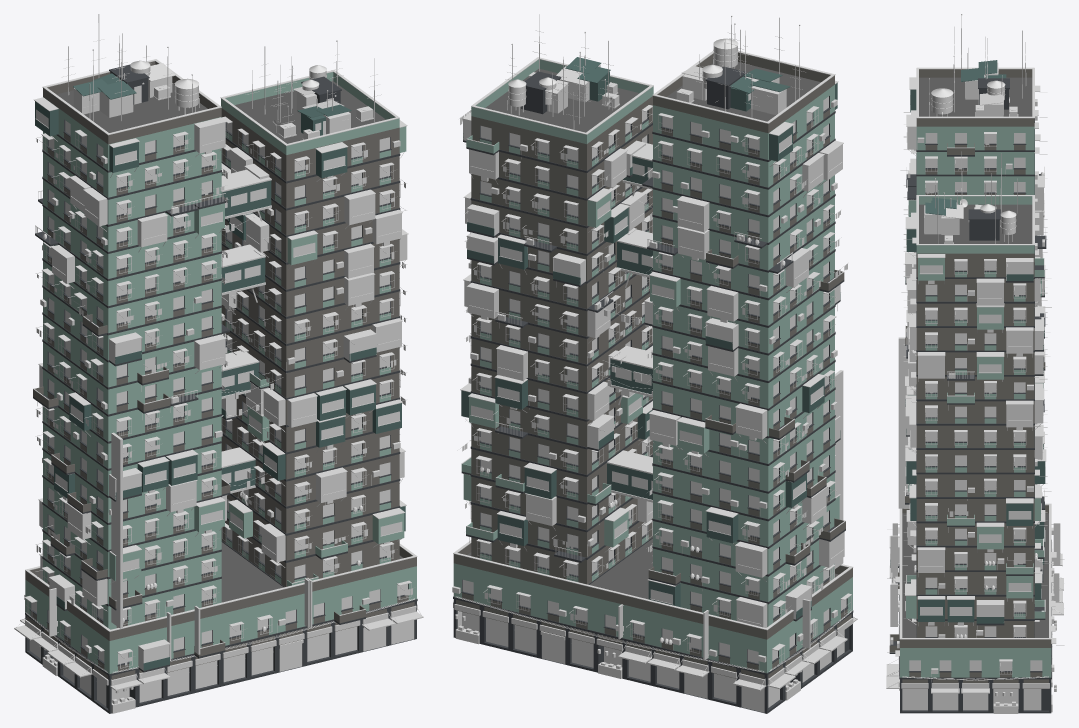
File: LM_KS_BridgeTwins.fbx
The picture shows the model from 3 angles, left to right: view 1: azimuth 30°, elevation 25°; view 2: azimuth 150°, elevation 25°; view 3: azimuth 270°, elevation 25°; orthographic projection. The views are drawn at different scales.
Visible parts, largest first — view 1: LM_KS_BridgeTwins_LOD0; view 2: LM_KS_BridgeTwins_LOD0; view 3: LM_KS_BridgeTwins_LOD0.
Part boxes in pixels (x1,y1,x2,y2): LM_KS_BridgeTwins_LOD0: (14,14,423,713); LM_KS_BridgeTwins_LOD0: (452,14,857,713); LM_KS_BridgeTwins_LOD0: (886,14,1064,713).
Size of what is drawn, in the model's own units: 41.06 by 75.11 by 21.15.
